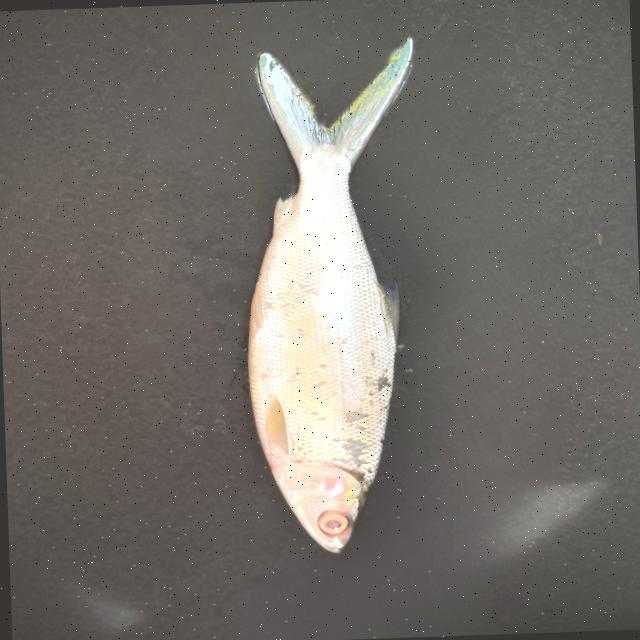665 g: (235, 35, 429, 555)
